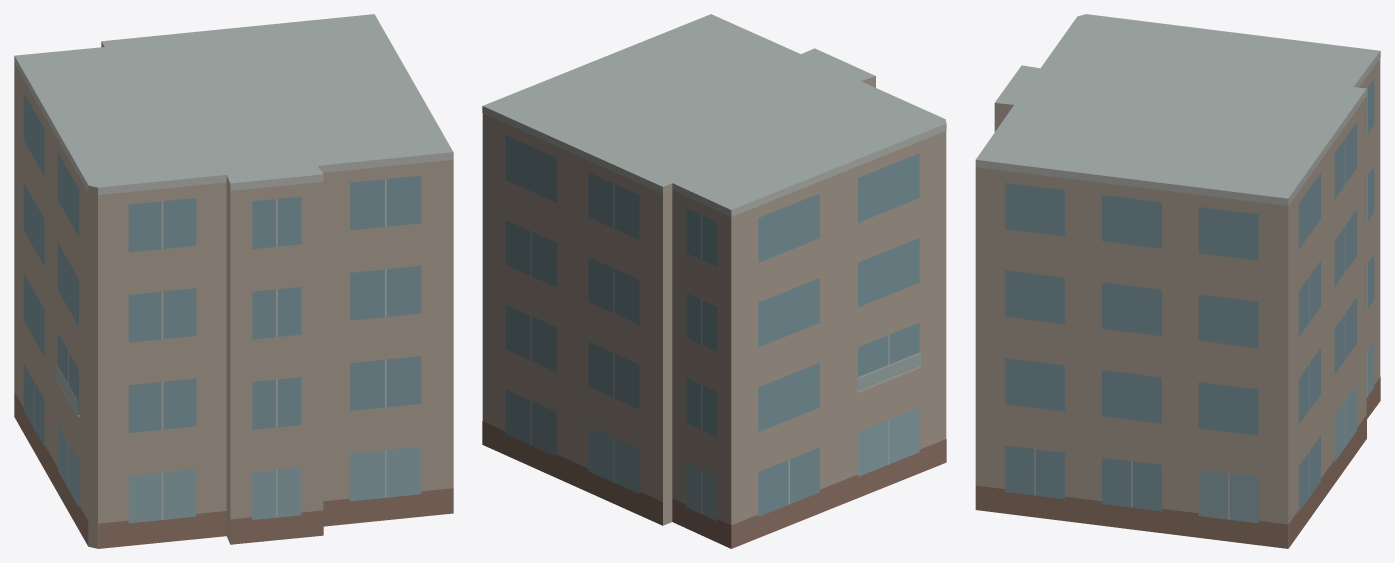
Rendered from survey-upis-32871983.glb.
3 renders of one model, left to right at view 1: azimuth 30°, elevation 25°; view 2: azimuth 150°, elevation 25°; view 3: azimuth 270°, elevation 25°, orthographic. The views are drawn at different scales.
Parts seen in each view (by area): view 1: survey-upis-32871983.tmp; view 2: survey-upis-32871983.tmp; view 3: survey-upis-32871983.tmp.
Part boxes in pixels (<box>): survey-upis-32871983.tmp: <box>14,14,453,548</box>; survey-upis-32871983.tmp: <box>482,14,946,548</box>; survey-upis-32871983.tmp: <box>975,14,1380,548</box>.
Bounding box in the file's own units: 13.3 × 11.75 × 12.32.
